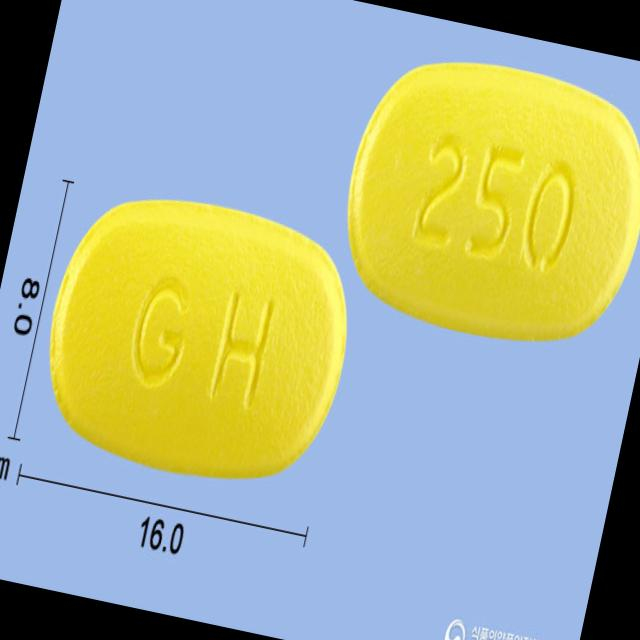Clana: (21, 168, 377, 510), (321, 33, 640, 371)
